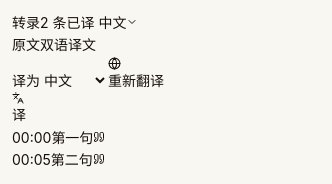
Test: LNTranscriptPanel 字幕编辑（原文/译文） › 译文模式：双击行编辑译文，保存后回显并调译文接口
Click the button "译文" at (82, 46), box left=68, top=34, right=96, bottom=57
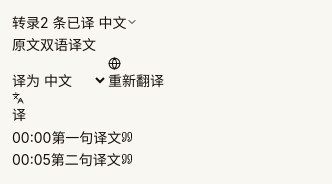
Double-click the text "第一句译文" at (73, 137), box left=12, top=129, right=133, bottom=146
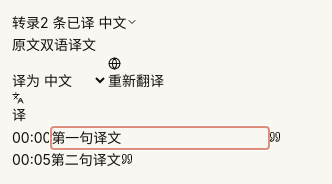
Replace the text in the field showing "第一句译文" with "改过的译文" at (160, 138), box left=51, top=127, right=269, bottom=149
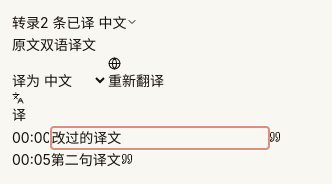
Press Enter in the field showing "第一句译文", box left=51, top=127, right=269, bottom=149
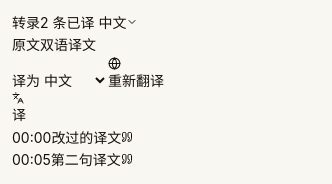
Result: the text "改过的译文" is shown at left=51, top=129, right=121, bottom=146
